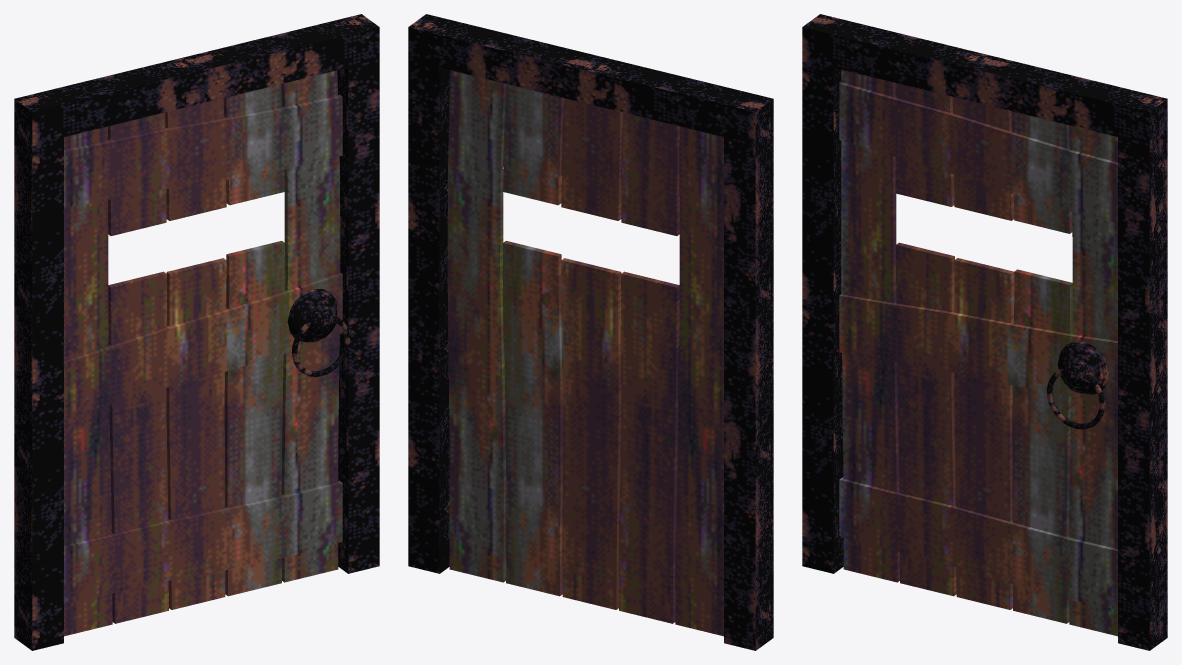
File: Door.fbx
3 views of the same model, side by side, from view 1: azimuth 30°, elevation 25°; view 2: azimuth 150°, elevation 25°; view 3: azimuth 330°, elevation 25° (orthographic).
Parts seen in each view (by area): view 1: Door.001, Frame; view 2: Door.001, Frame; view 3: Door.001, Frame.
Part boxes in pixels (<box>): Door.001: <box>64,70,349,636</box>; Frame: <box>14,14,379,650</box>; Door.001: <box>447,70,723,636</box>; Frame: <box>408,14,773,650</box>; Door.001: <box>839,69,1117,636</box>; Frame: <box>802,14,1167,650</box>.
Size of the model in its own units: 1294 by 1918 by 193.
2 materials, 2 textured.
